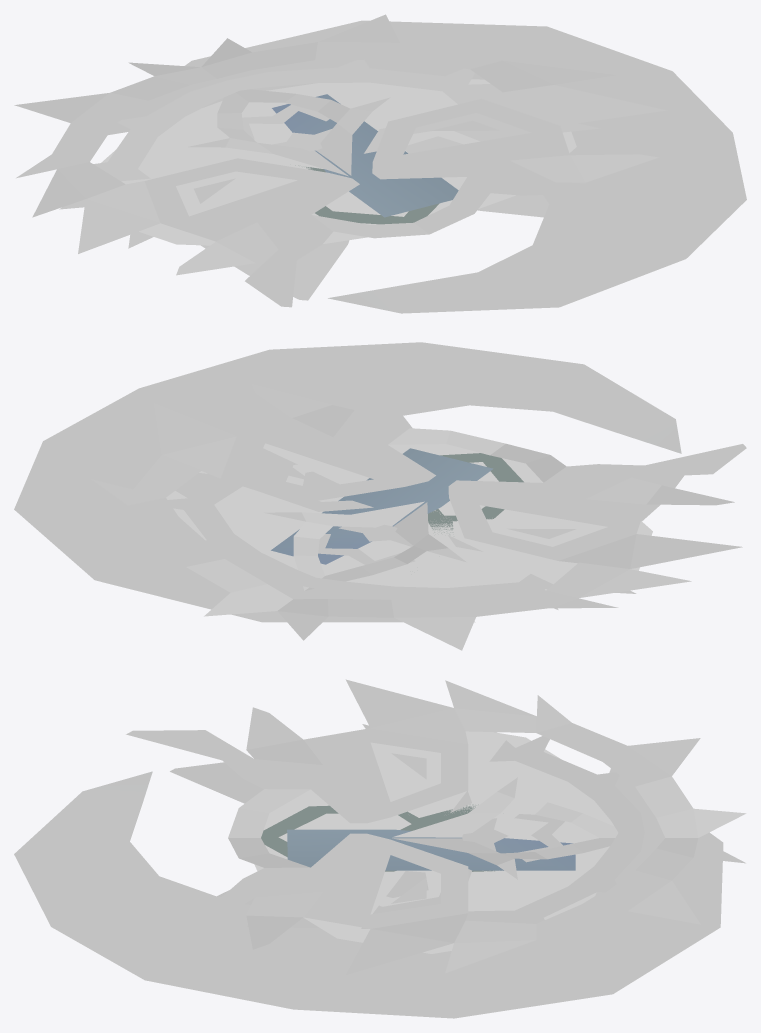
The model's file is Decals.glb.
3 views of the same model, one above another, from view 1: azimuth 30°, elevation 25°; view 2: azimuth 150°, elevation 25°; view 3: azimuth 270°, elevation 25° (orthographic). The views are drawn at different scales.
Visible parts, largest first — view 1: OwlDecal, DecalMoon, CatDecal, Decal_Oval, RectangleDecal, Decal_OvalCutout, CoolSDecal; view 2: OwlDecal, DecalMoon, Decal_Oval, CatDecal, RectangleDecal, Decal_OvalCutout, CoolSDecal; view 3: OwlDecal, DecalMoon, Decal_Oval, CatDecal, Decal_OvalCutout, RectangleDecal, CoolSDecal.
Part boxes in pixels (left/top/right/bottom): OwlDecal: left=14, top=14, right=670, bottom=307; DecalMoon: left=108, top=20, right=746, bottom=313; CatDecal: left=59, top=60, right=599, bottom=300; Decal_Oval: left=102, top=79, right=576, bottom=245; RectangleDecal: left=272, top=94, right=458, bottom=217; Decal_OvalCutout: left=101, top=79, right=576, bottom=245; CoolSDecal: left=295, top=165, right=439, bottom=224; OwlDecal: left=91, top=352, right=746, bottom=650; DecalMoon: left=14, top=342, right=681, bottom=622; Decal_Oval: left=166, top=443, right=652, bottom=589; CatDecal: left=168, top=416, right=684, bottom=609; RectangleDecal: left=271, top=448, right=493, bottom=564; Decal_OvalCutout: left=166, top=444, right=652, bottom=590; CoolSDecal: left=428, top=453, right=523, bottom=534; OwlDecal: left=126, top=679, right=746, bottom=974; DecalMoon: left=14, top=768, right=723, bottom=1018; Decal_Oval: left=255, top=732, right=609, bottom=953; CatDecal: left=170, top=724, right=644, bottom=928; Decal_OvalCutout: left=254, top=731, right=613, bottom=953; RectangleDecal: left=287, top=829, right=575, bottom=870; CoolSDecal: left=261, top=804, right=494, bottom=871.
Size of the model in its own units: 2.23 by 0.0682 by 2.12.
